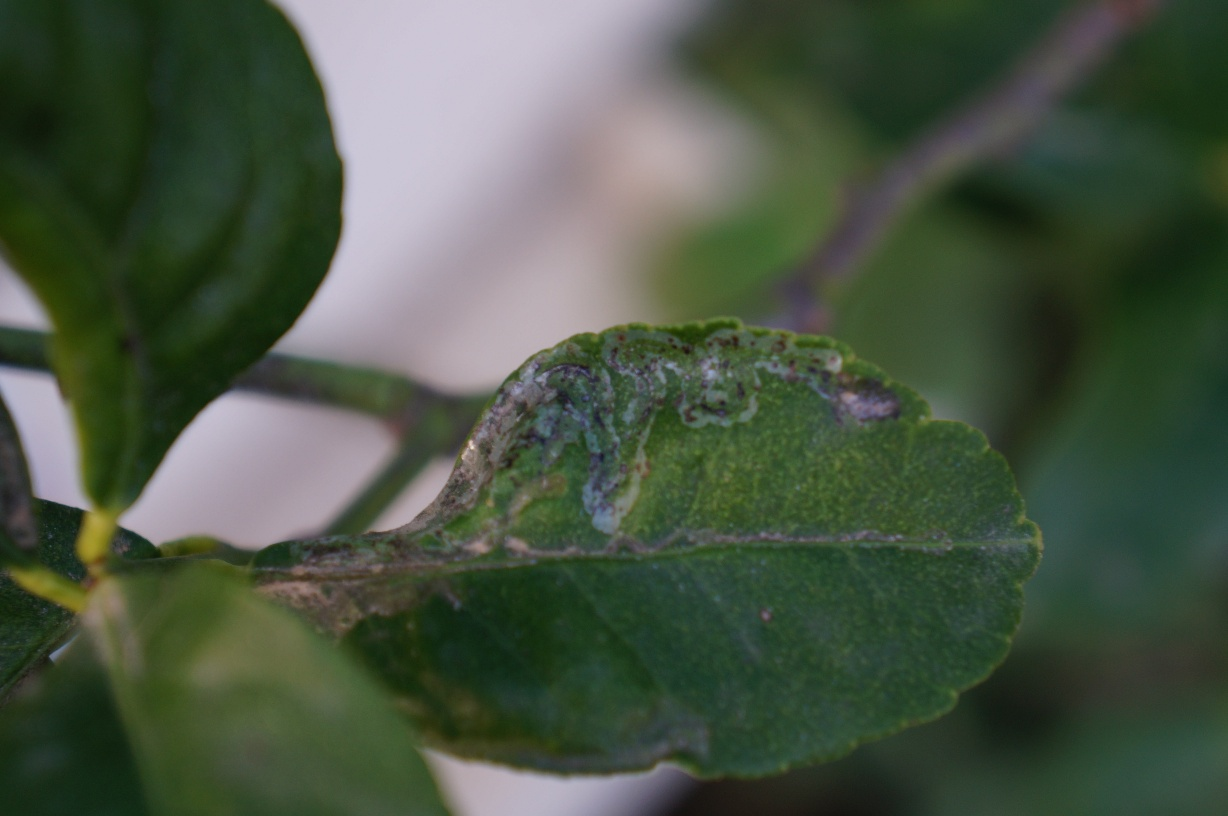damage: (259, 309, 907, 644)
